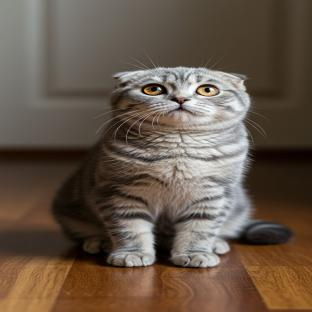Animal: (53, 67, 291, 268)
